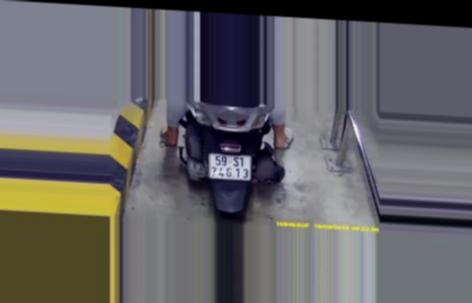License_Plate: (204, 149, 256, 184)
